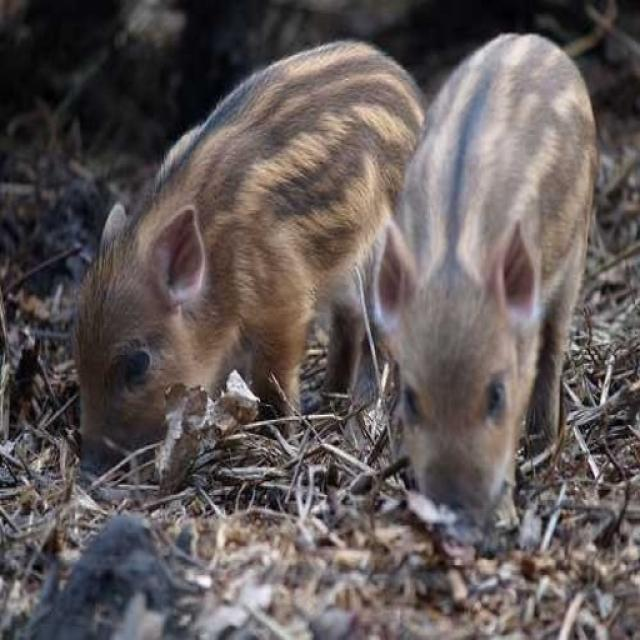pig: (59, 0, 426, 550), (391, 24, 640, 579)
